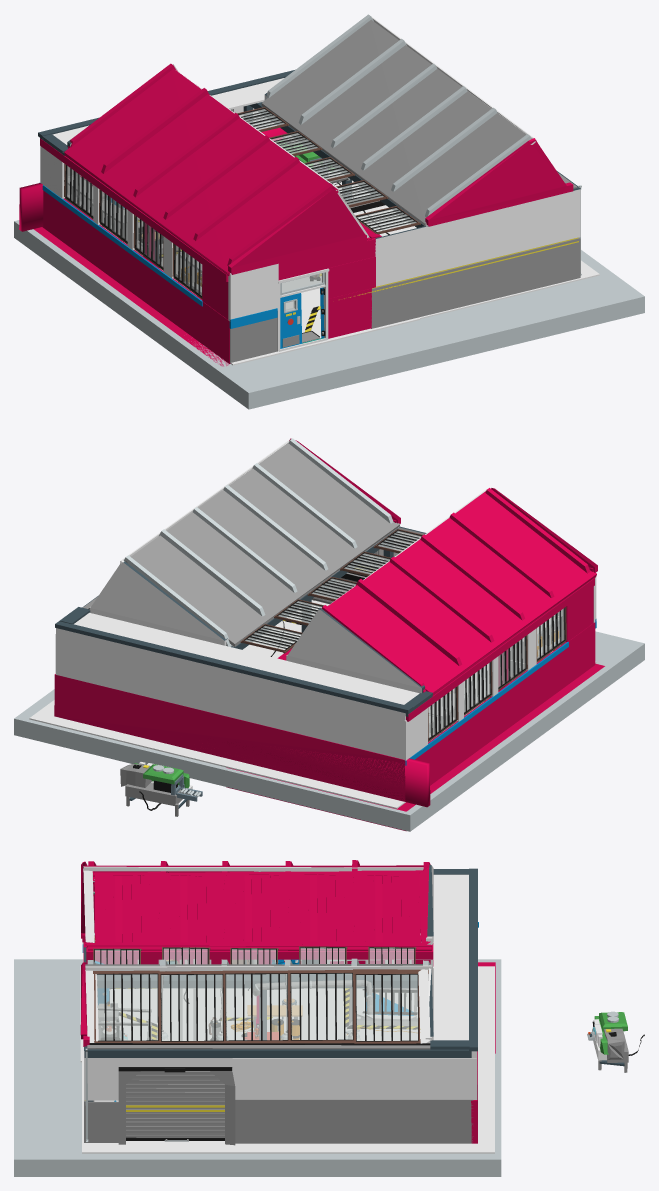
The model's file is factory.FBX.
The picture shows the model from 3 angles, top to bottom: view 1: azimuth 30°, elevation 25°; view 2: azimuth 150°, elevation 25°; view 3: azimuth 270°, elevation 25°; orthographic projection. The views are drawn at different scales.
Visible parts, largest first — view 1: mesh1579950011, mesh134314137, mesh2014645610, mesh1137442161; view 2: mesh1579950011, mesh134314137, mesh1761773202, mesh1137442161; view 3: mesh1579950011, mesh134314137, mesh969649925, mesh989105887, mesh1761773202.
Boxes of the visible parts, bbox=[...] form: mesh1579950011: bbox=[14, 14, 644, 409]; mesh134314137: bbox=[64, 107, 420, 298]; mesh2014645610: bbox=[280, 293, 302, 348]; mesh1137442161: bbox=[64, 174, 201, 295]; mesh1579950011: bbox=[14, 438, 644, 831]; mesh134314137: bbox=[240, 529, 566, 741]; mesh1761773202: bbox=[120, 762, 202, 816]; mesh1137442161: bbox=[428, 615, 560, 742]; mesh1579950011: bbox=[14, 860, 501, 1176]; mesh134314137: bbox=[93, 946, 416, 964]; mesh969649925: bbox=[110, 988, 420, 1039]; mesh989105887: bbox=[93, 869, 468, 1043]; mesh1761773202: bbox=[587, 1011, 628, 1072].
Bounding box in the file's own units: 6.87 × 2.87 × 9.
